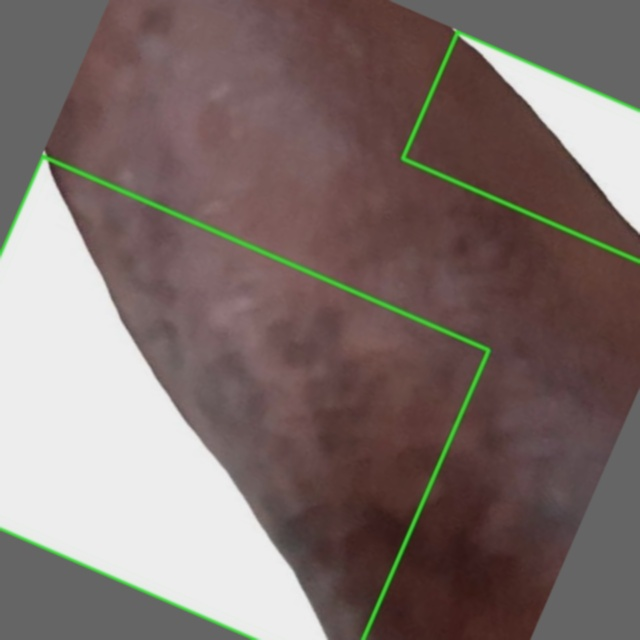Eczema: (0, 156, 488, 639), (403, 31, 639, 261)
